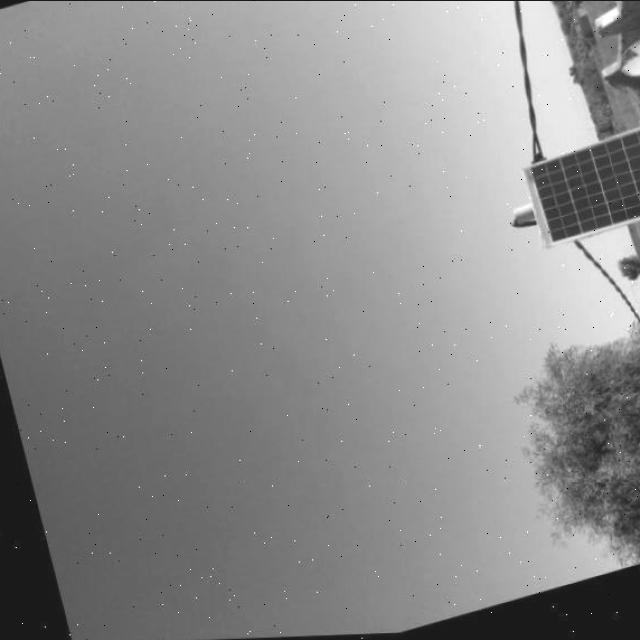Normal Solar Panel: (519, 116, 640, 252)
